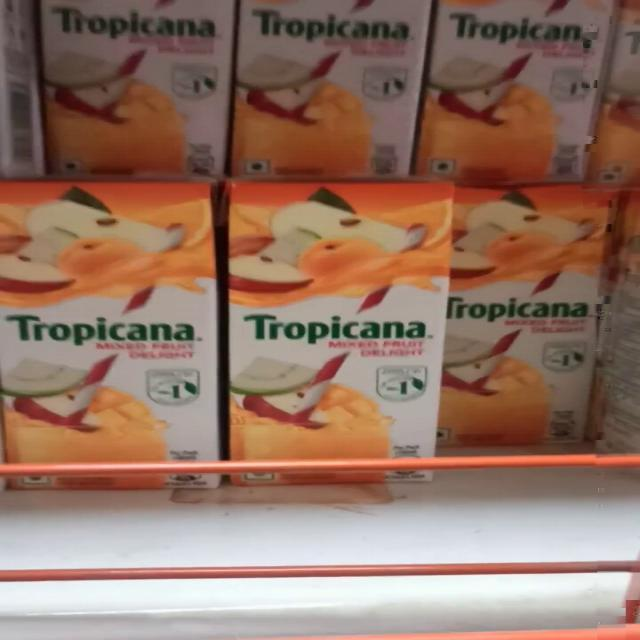Tropicana: (5, 180, 220, 493), (228, 175, 440, 480), (446, 185, 612, 445)
